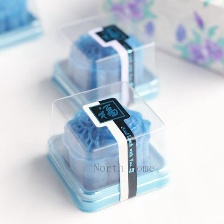plastic_box: (37, 76, 175, 216), (40, 6, 164, 120)
